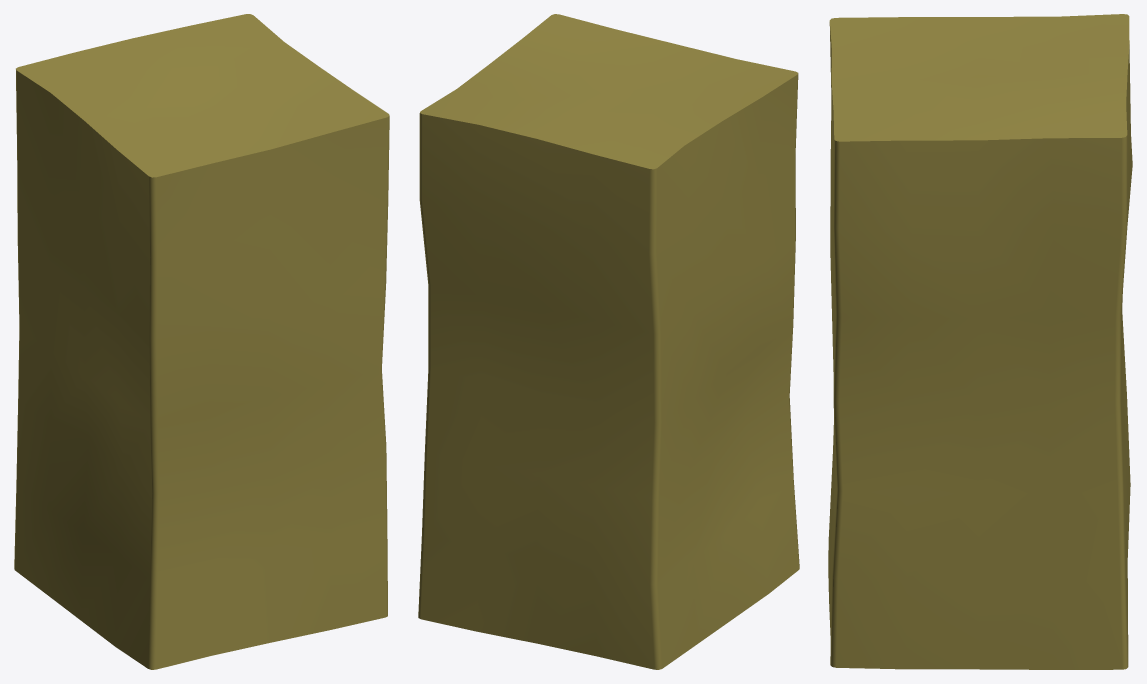
File: MSH_Building_5x5x10_001.glb
3 renders of one model, left to right at view 1: azimuth 30°, elevation 25°; view 2: azimuth 150°, elevation 25°; view 3: azimuth 270°, elevation 25°, orthographic. The views are drawn at different scales.
Parts seen in each view (by area): view 1: MSH_Building_5x5x10_001; view 2: MSH_Building_5x5x10_001; view 3: MSH_Building_5x5x10_001.
Part boxes in pixels (x1,y1,x2,y2): MSH_Building_5x5x10_001: [14, 14, 389, 669]; MSH_Building_5x5x10_001: [418, 14, 799, 669]; MSH_Building_5x5x10_001: [828, 14, 1132, 669].
Bounding box in the file's own units: 5.13 × 10.01 × 5.16.
